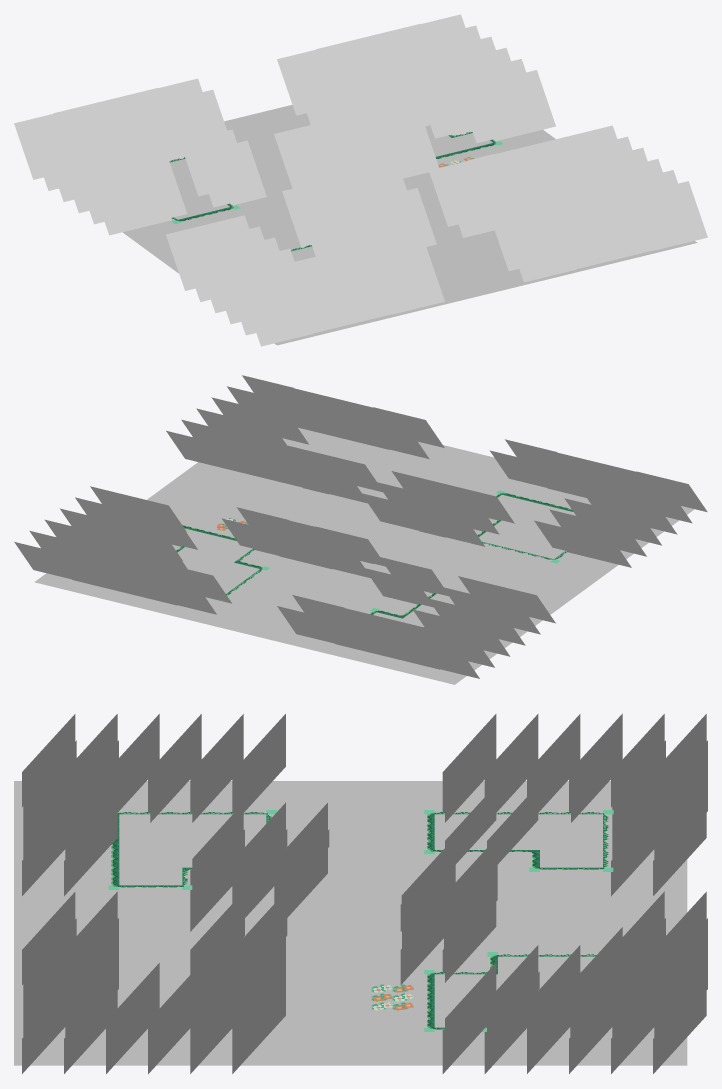
File: Safari Zone_Areas - Forest.fbx
3 views of the same model, one above another, from view 1: azimuth 30°, elevation 25°; view 2: azimuth 150°, elevation 25°; view 3: azimuth 270°, elevation 25° (orthographic). The views are drawn at different scales.
Visible parts, largest first — view 1: m_saf07_00_00c; view 2: m_saf07_00_00c; view 3: m_saf07_00_00c.
Part boxes in pixels (x1,y1,x2,y2): m_saf07_00_00c: [14, 14, 707, 346]; m_saf07_00_00c: [14, 375, 707, 684]; m_saf07_00_00c: [14, 713, 707, 1074].
Bounding box in the file's own units: 54400 × 5134 × 52777.
